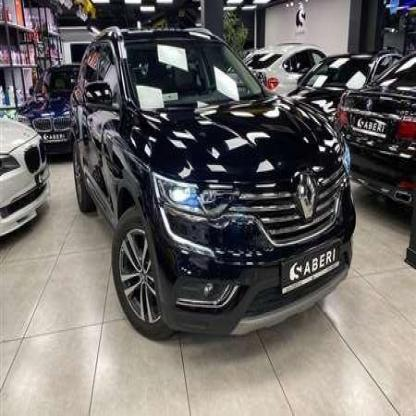Car: (74, 28, 356, 351), (336, 42, 416, 214), (0, 98, 53, 242), (17, 65, 85, 164), (243, 32, 327, 95)
